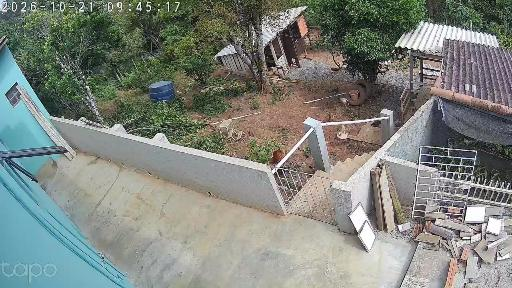frango: (338, 97, 351, 111), (370, 120, 381, 128)
galinha: (276, 81, 287, 90), (307, 165, 316, 173), (328, 112, 335, 122), (331, 87, 339, 95)
galo: (269, 148, 286, 166)
